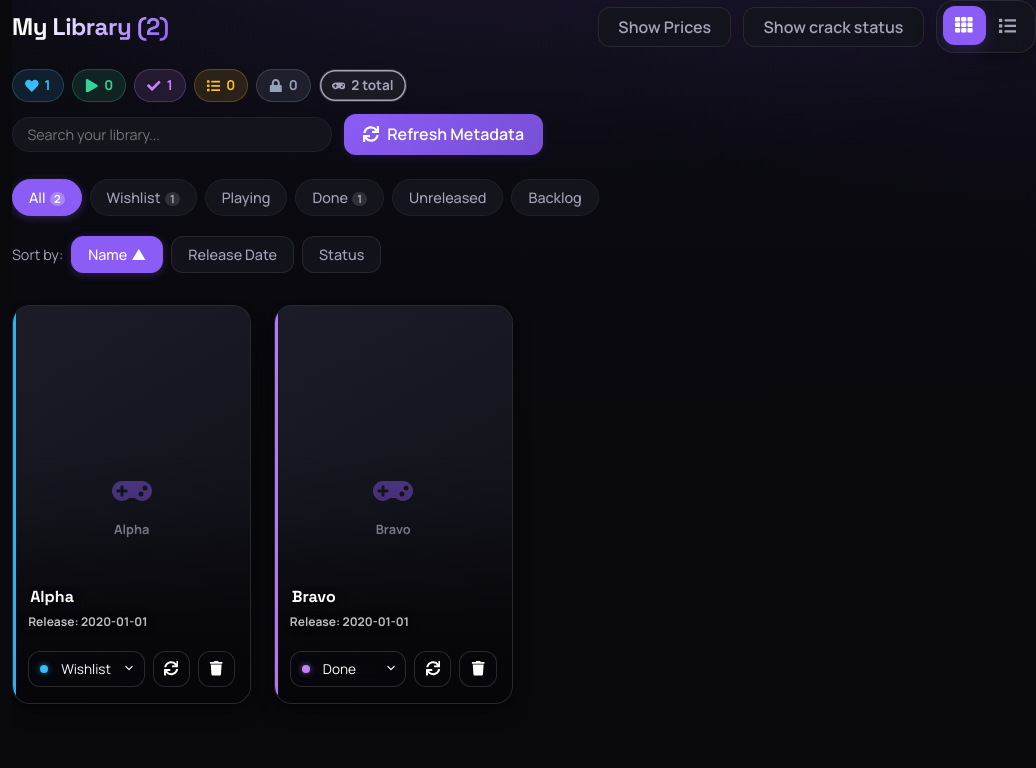
Test: library cards and chips are reachable and named (FE-6) › the six status chips are toggle buttons, and pressing one filters the list
Click the button named "Done: 1 — show only these" at (160, 86), box x1=134 y1=69 x2=186 y2=102
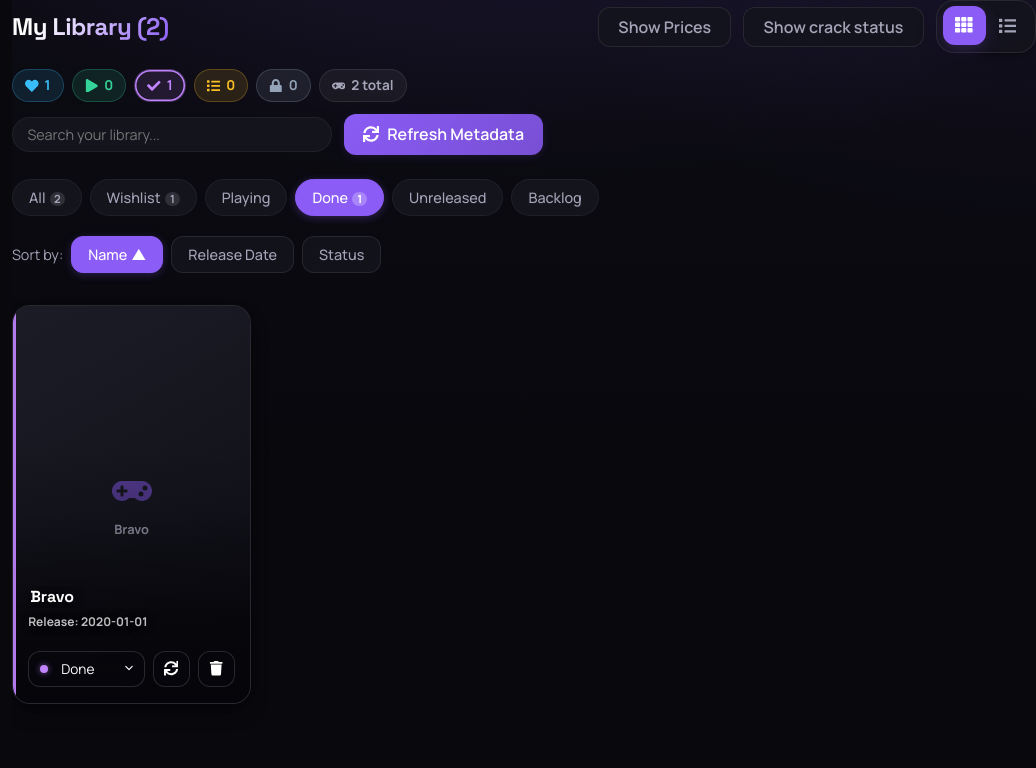
Expected: the element "Bravo" is shown, x1=12 y1=305 x2=251 y2=704
Expected: the text "Alpha" is gone
